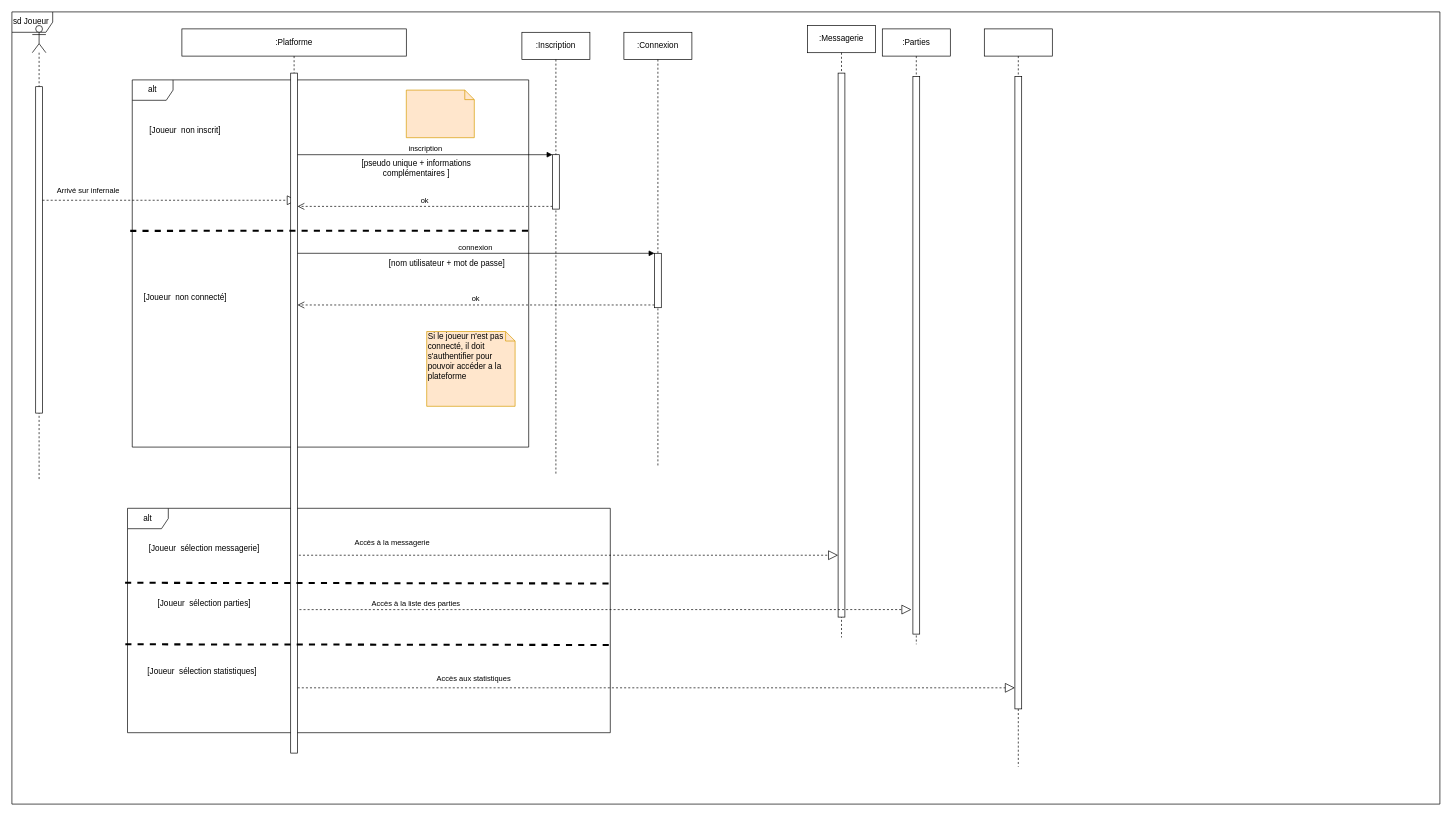
The diagram is 1452 pixels wide and 816 high, and some of its shapes have lost their labels. The shapes that lost their labels are listed below. From the top down, each one's box as (x1, y1, x2, y2) in pixels, then its label:
(406, 89, 474, 138): Si le joueur n'est pas inscrit, on le force a se créer un compte
(32, 25, 46, 481): Joueur
(984, 28, 1052, 767): :Stats
